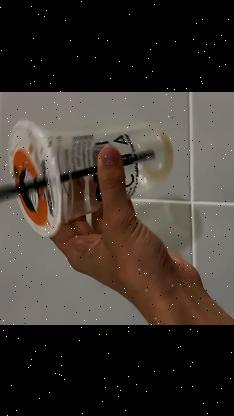Others: (0, 120, 177, 236)
